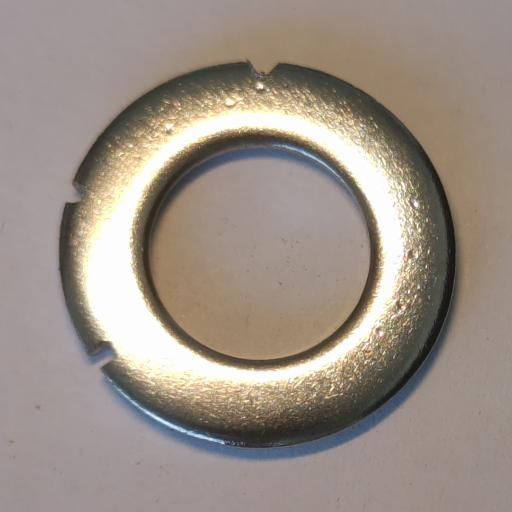burr: (91, 341, 119, 370), (247, 61, 280, 76), (65, 185, 83, 204)
